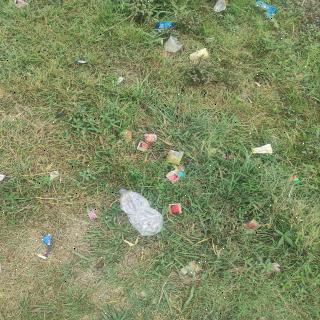Plastic-bottle: (118, 187, 167, 239)
